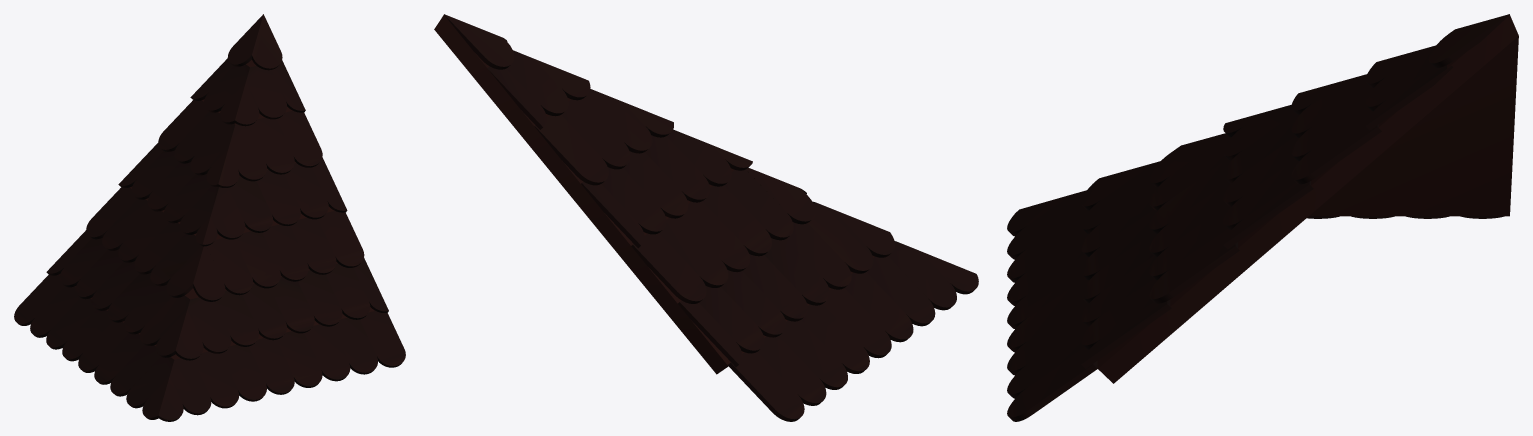
The model's file is Roof_Corner_Convex.fbx.
3 views of the same model, side by side, from view 1: azimuth 30°, elevation 25°; view 2: azimuth 150°, elevation 25°; view 3: azimuth 270°, elevation 25° (orthographic). The views are drawn at different scales.
Visible parts, largest first — view 1: Roof_Corner_Convex; view 2: Roof_Corner_Convex; view 3: Roof_Corner_Convex.
Part boxes in pixels (left/top/right/bottom): Roof_Corner_Convex: left=14, top=14, right=405, bottom=421; Roof_Corner_Convex: left=434, top=14, right=978, bottom=421; Roof_Corner_Convex: left=1007, top=14, right=1518, bottom=421.
Size of the model in its own units: 112 by 100 by 112.
